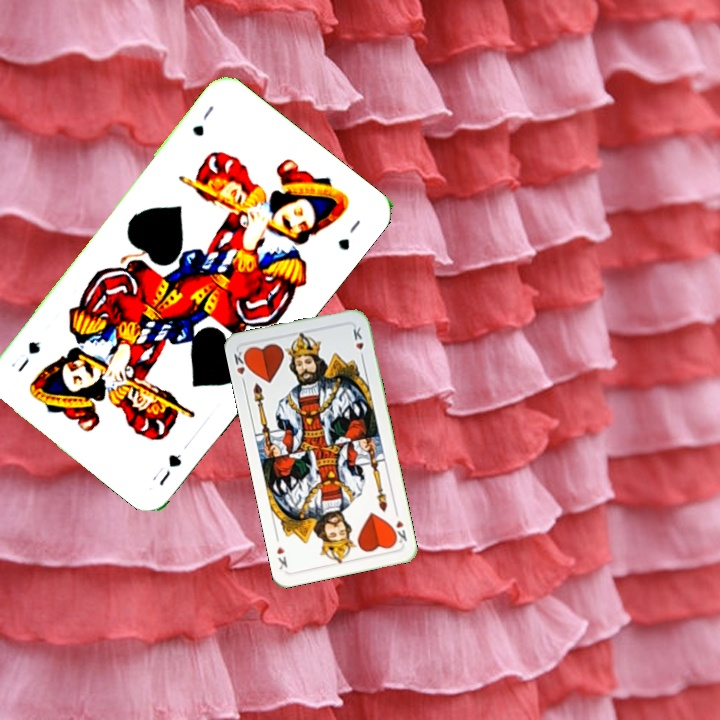GU: (154, 450, 184, 489), (188, 101, 217, 140)
HK: (230, 347, 252, 388), (388, 507, 409, 546)
